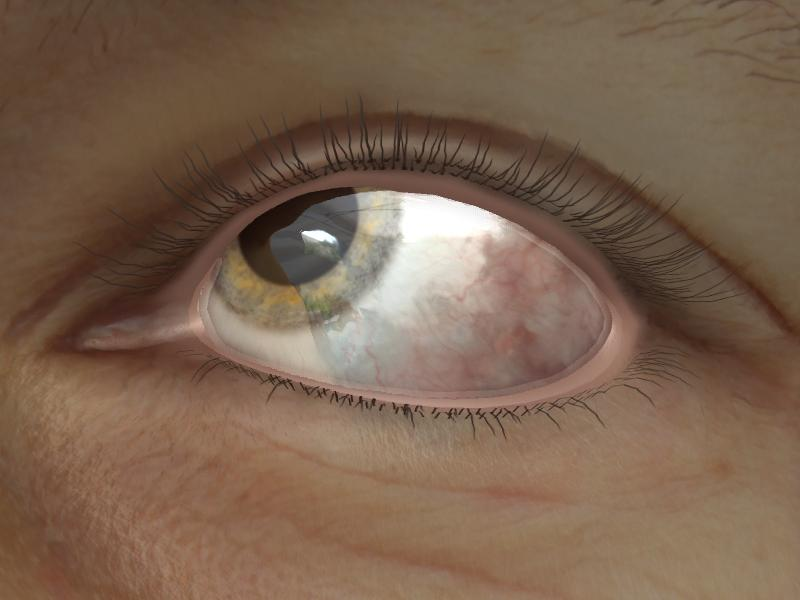eye: (211, 181, 401, 330)
